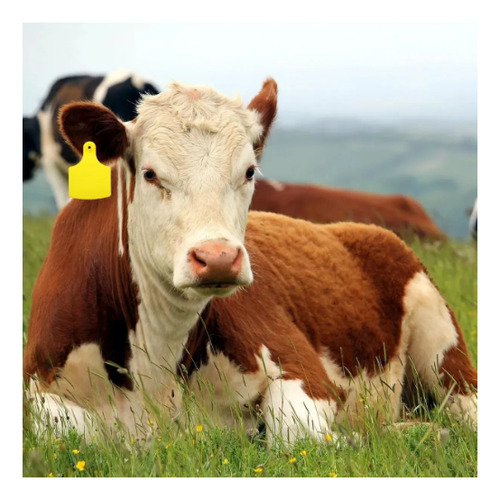bovino: (24, 74, 469, 447)
